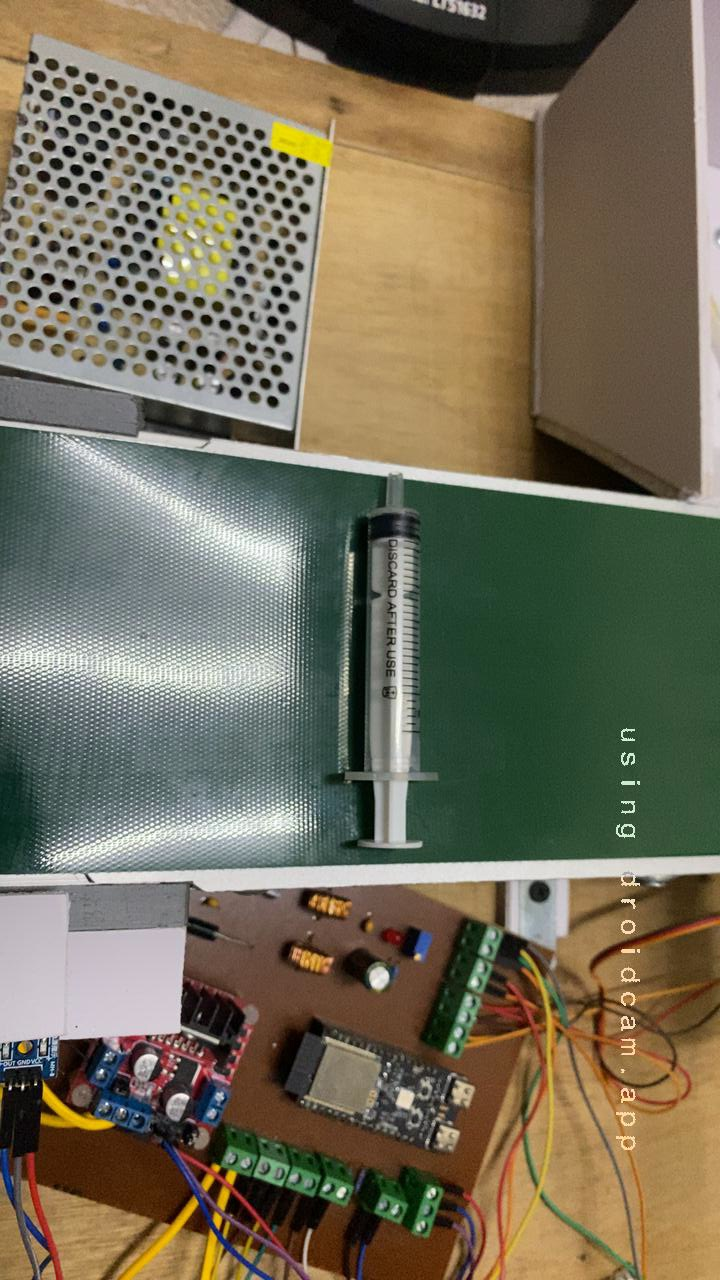syringe: (304, 488, 455, 865)
